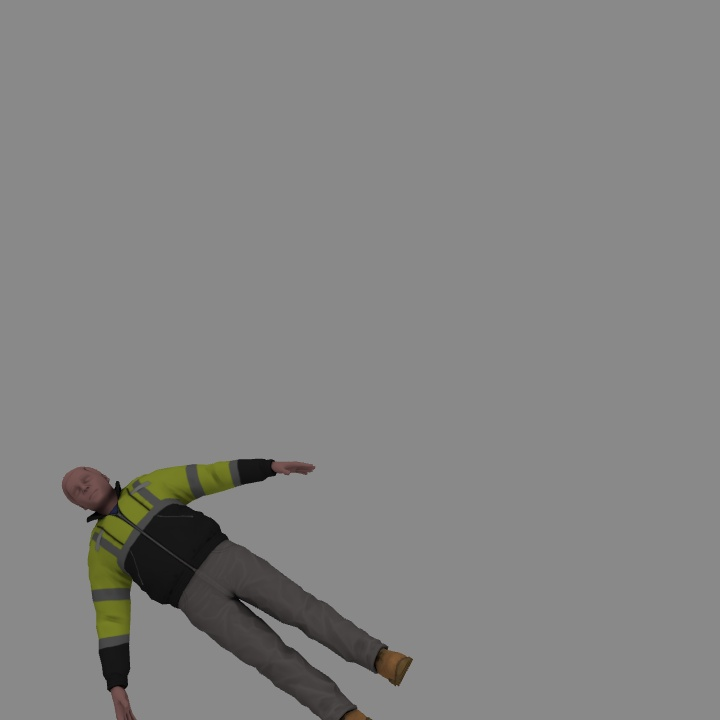victim: (61, 458, 413, 717)
